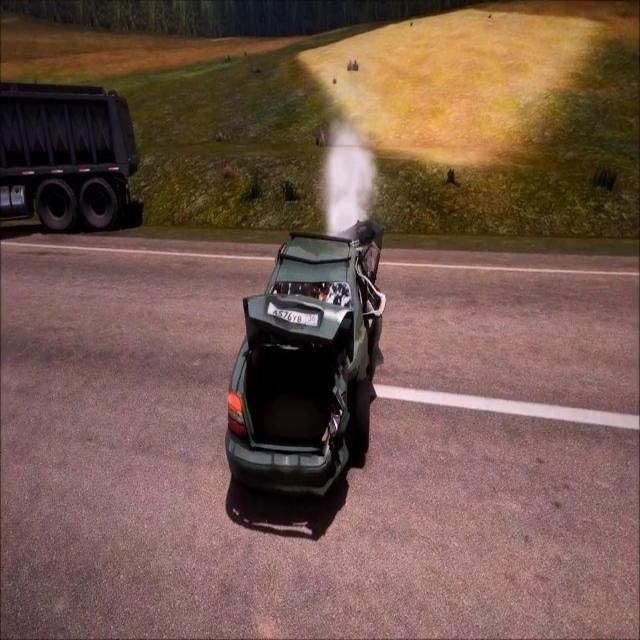severe: (222, 214, 390, 536)
